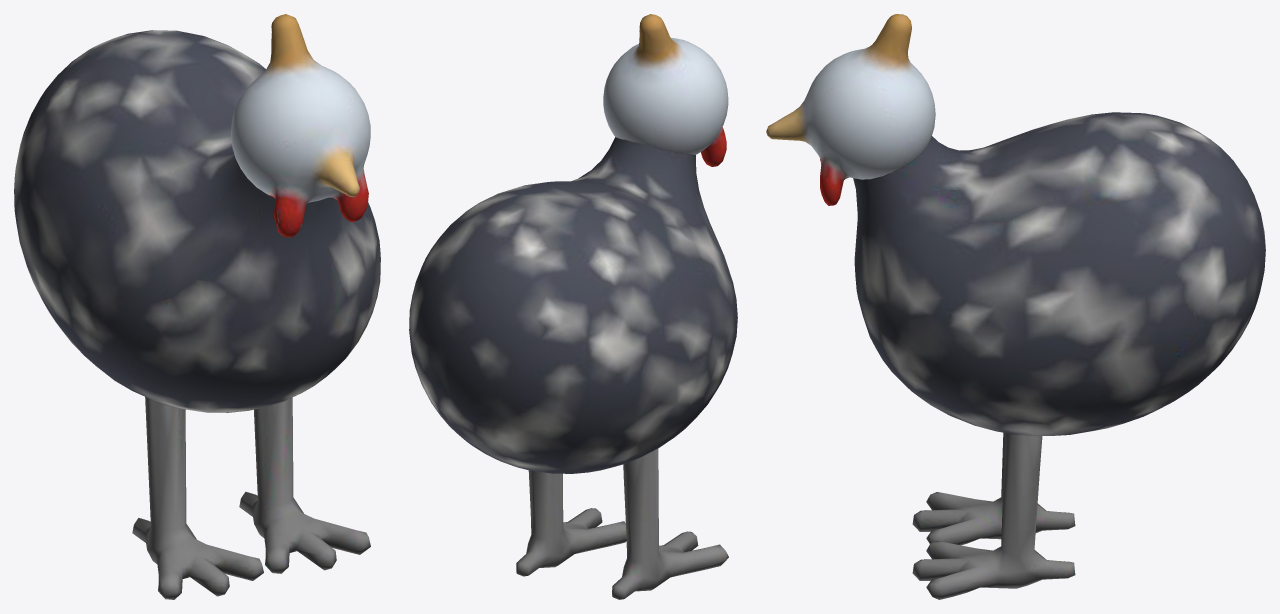
File: animal_guinea_fowl.glb
3 renders of one model, left to right at view 1: azimuth 30°, elevation 25°; view 2: azimuth 150°, elevation 25°; view 3: azimuth 270°, elevation 25°, orthographic. The views are drawn at different scales.
Visible parts, largest first — view 1: animal_guinea_fowl, head, leg0, leg1; view 2: animal_guinea_fowl, head, leg0, leg1; view 3: animal_guinea_fowl, head, leg1, leg0.
Part boxes in pixels (x1,y1,x2,y2): animal_guinea_fowl: (14,30,380,412); head: (231,14,370,237); leg0: (132,397,263,599); leg1: (239,397,370,573); animal_guinea_fowl: (409,137,737,473); head: (603,14,728,166); leg0: (612,448,728,599); leg1: (516,470,626,576); animal_guinea_fowl: (853,112,1265,435); head: (766,14,935,205); leg1: (912,433,1075,599); leg0: (912,432,1075,545).
Size of the model in its own units: 0.1619 by 0.312 by 0.2586.
1 material, 1 textured.
